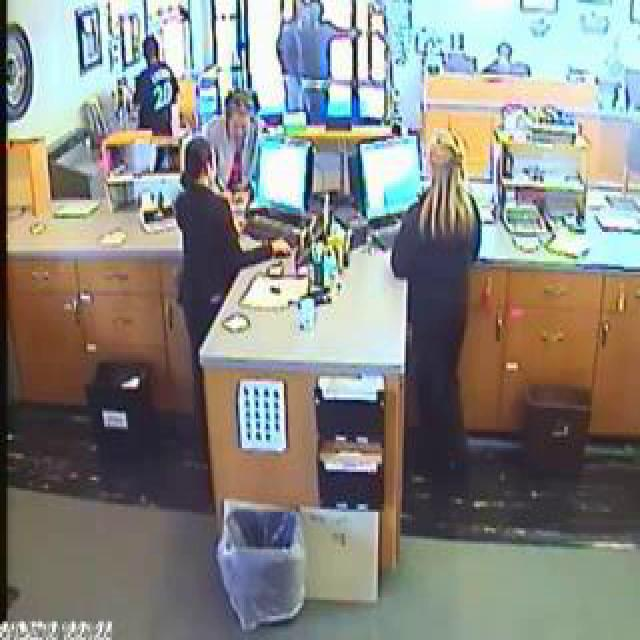robbery: (122, 0, 334, 399)
